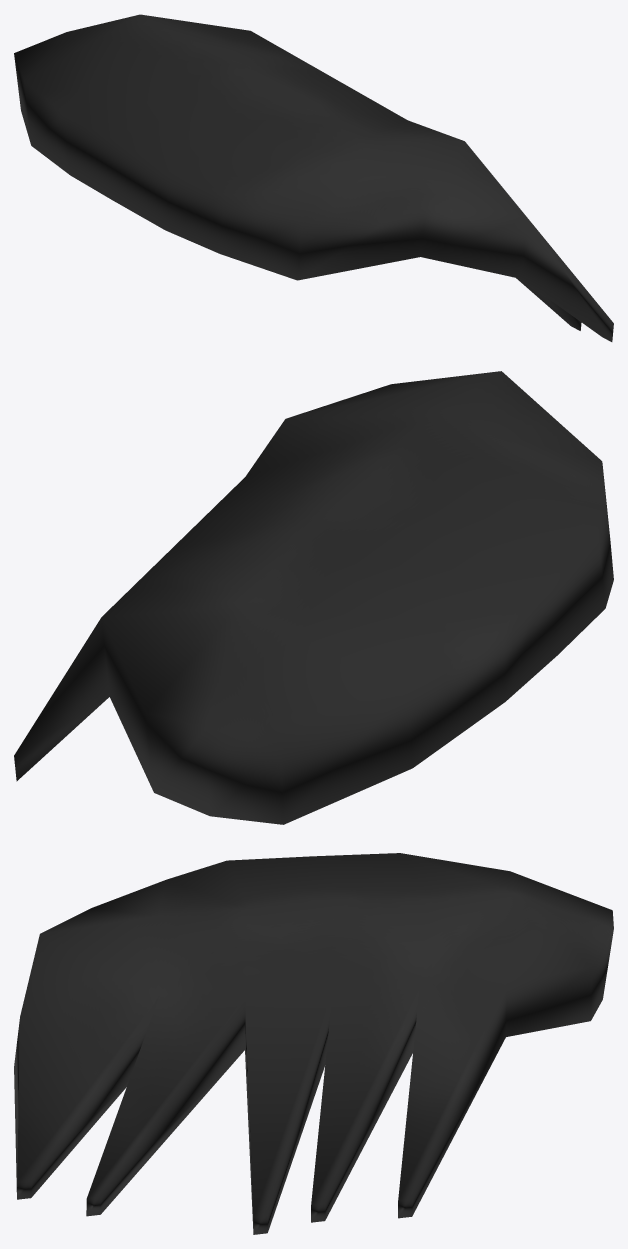
File: emohair.fbx
3 renders of one model, top to bottom at view 1: azimuth 30°, elevation 25°; view 2: azimuth 150°, elevation 25°; view 3: azimuth 270°, elevation 25°, orthographic. The views are drawn at different scales.
Visible parts, largest first — view 1: emohair; view 2: emohair; view 3: emohair.
Part boxes in pixels (x1=…): emohair: x1=14, y1=14, x2=613, y2=341; emohair: x1=14, y1=371, x2=613, y2=824; emohair: x1=14, y1=853, x2=613, y2=1234.
Size of the model in its own units: 0.7737 by 0.4462 by 1.07.
